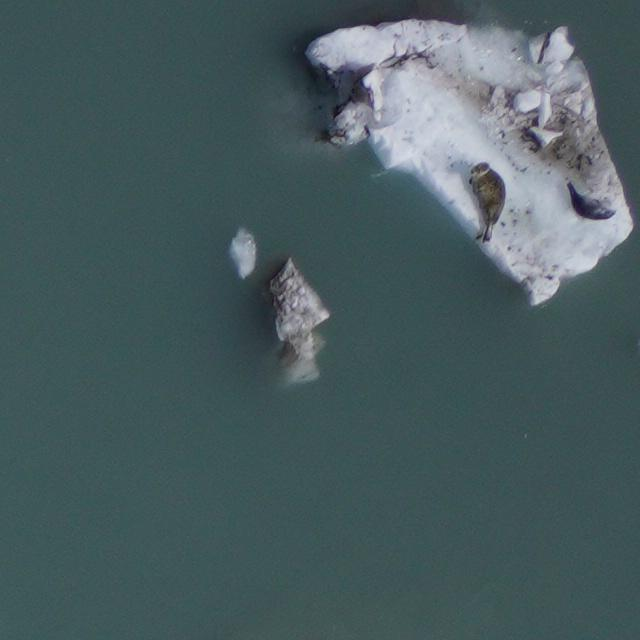seal: (467, 160, 515, 243), (557, 179, 616, 232)
